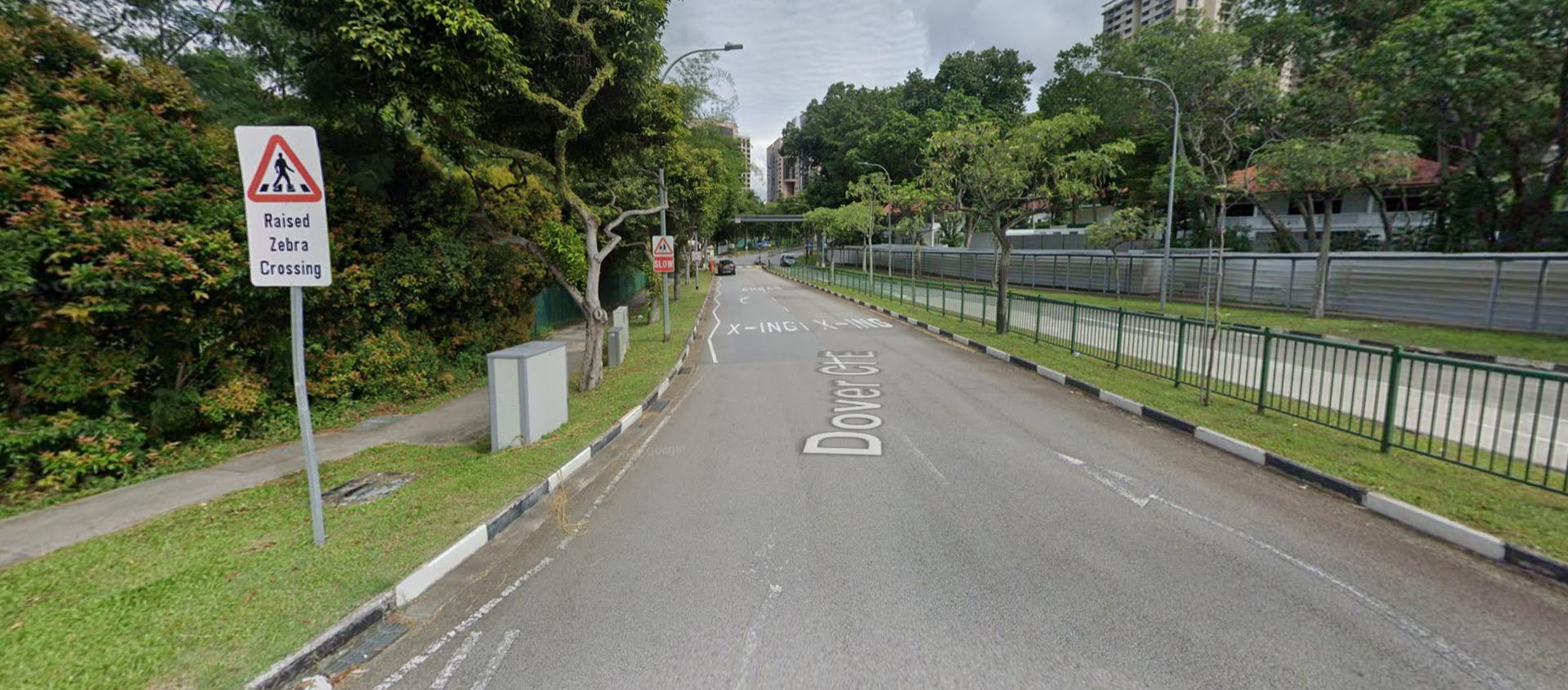defect: (321, 616, 419, 684)
